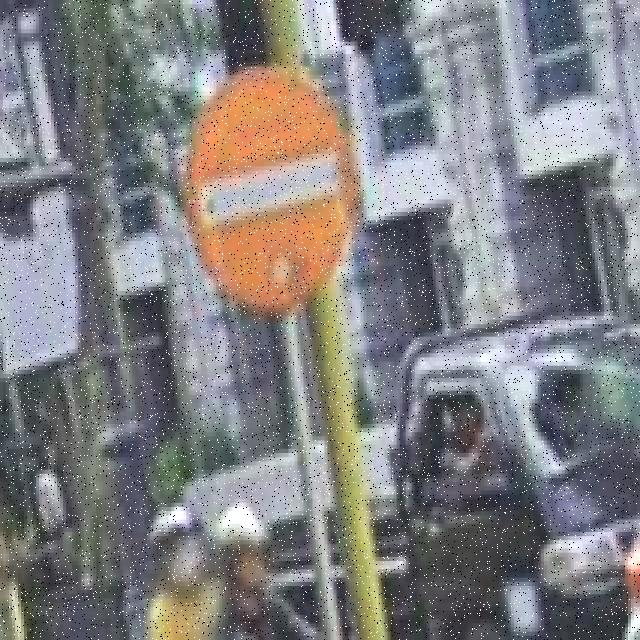Zakaz wjazdu: (186, 71, 358, 312)
